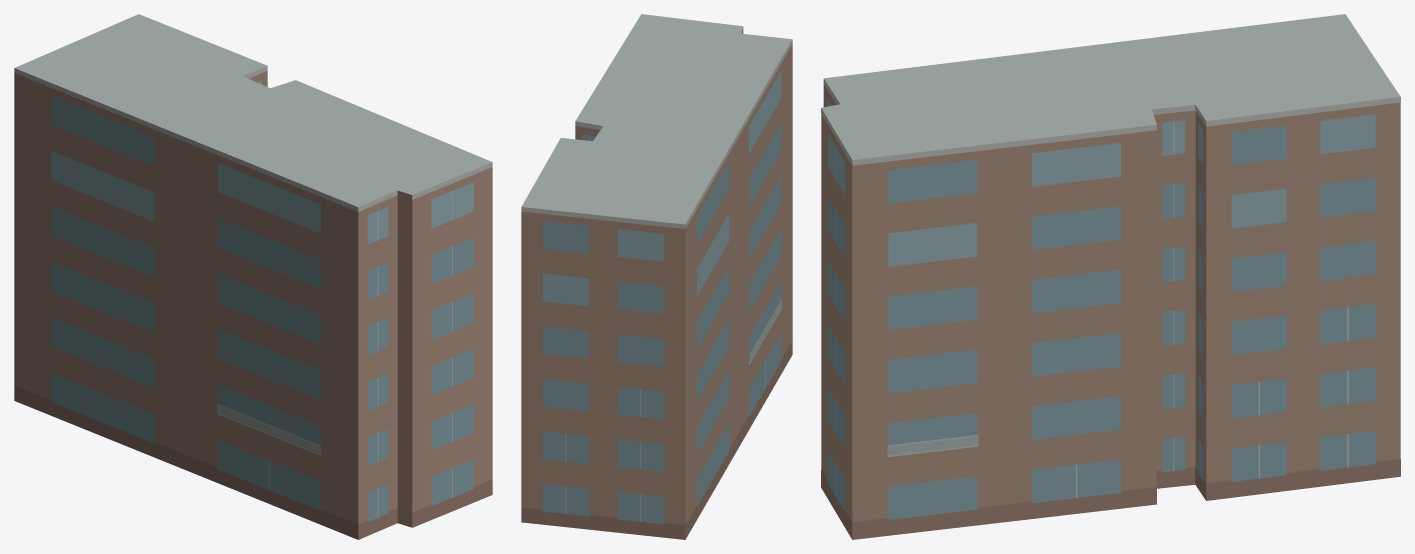
File: survey-upis-32561264.glb
The picture shows the model from 3 angles, left to right: view 1: azimuth 30°, elevation 25°; view 2: azimuth 150°, elevation 25°; view 3: azimuth 270°, elevation 25°; orthographic projection. The views are drawn at different scales.
Visible parts, largest first — view 1: survey-upis-32561264.tmp; view 2: survey-upis-32561264.tmp; view 3: survey-upis-32561264.tmp.
Boxes of the visible parts, x1,y1,x2,y2 form: survey-upis-32561264.tmp: [14, 14, 492, 539]; survey-upis-32561264.tmp: [521, 14, 792, 539]; survey-upis-32561264.tmp: [821, 14, 1400, 539].
Size of the model in its own units: 13.79 by 16.7 by 23.11.
